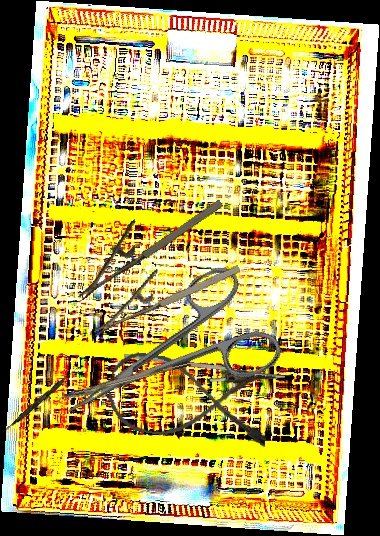Cannula: (103, 348, 277, 452)
Chopper: (53, 360, 193, 407)
Iris Scissors: (38, 257, 287, 454)
Needle Holder: (59, 175, 226, 302), (80, 240, 243, 337), (123, 352, 286, 392)
Spatula Surgical: (1, 361, 83, 437)
